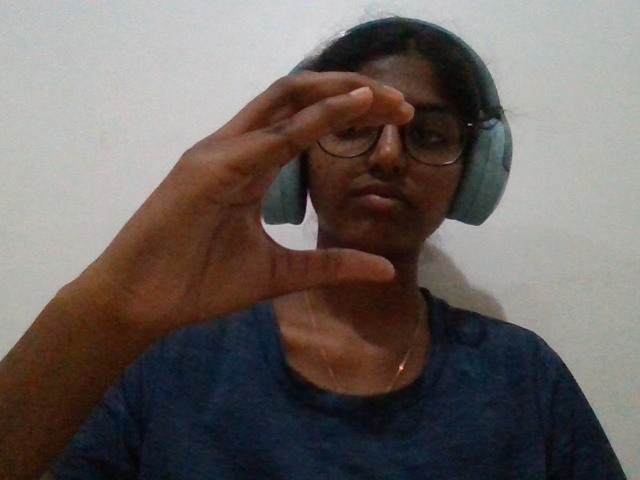C: (63, 1, 420, 396)
